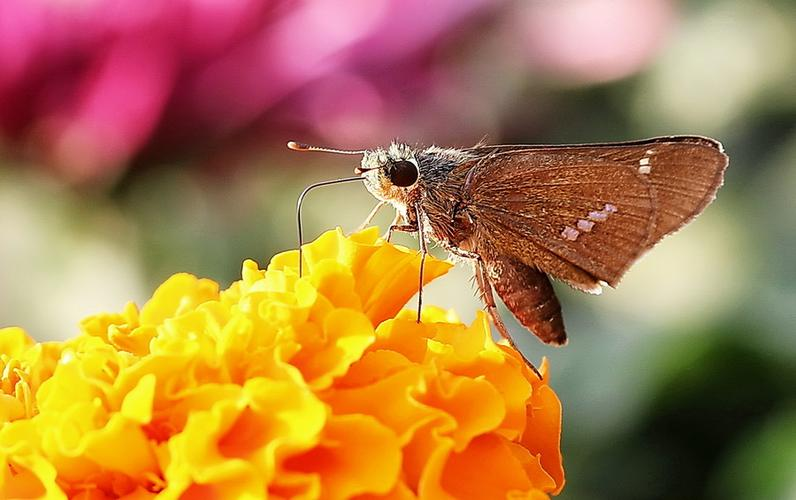Hesperiidae: (288, 119, 734, 391)
